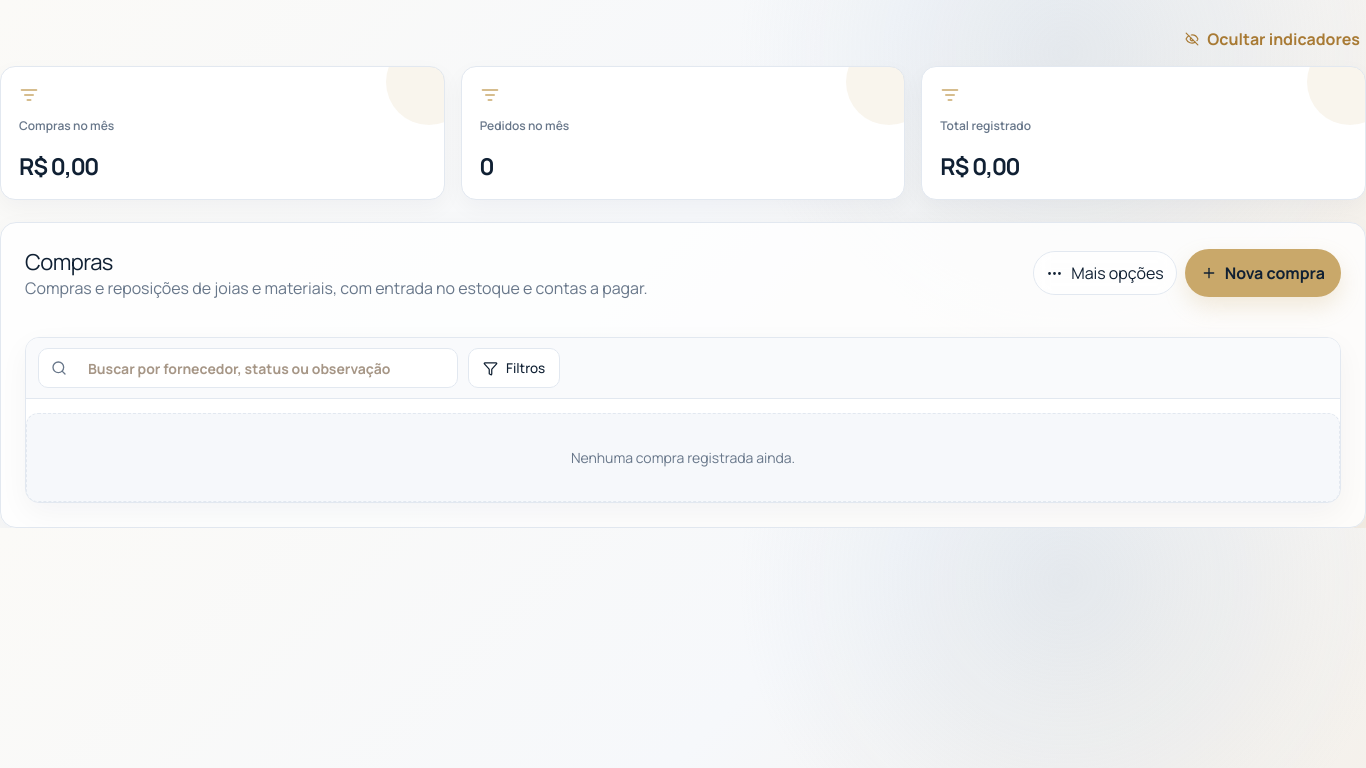
formulário extenso de compras › organiza essenciais, itens e parcelas em etapas sem modal secundário
Click the button "Nova compra" at (1263, 273), box [1185,249,1341,297]
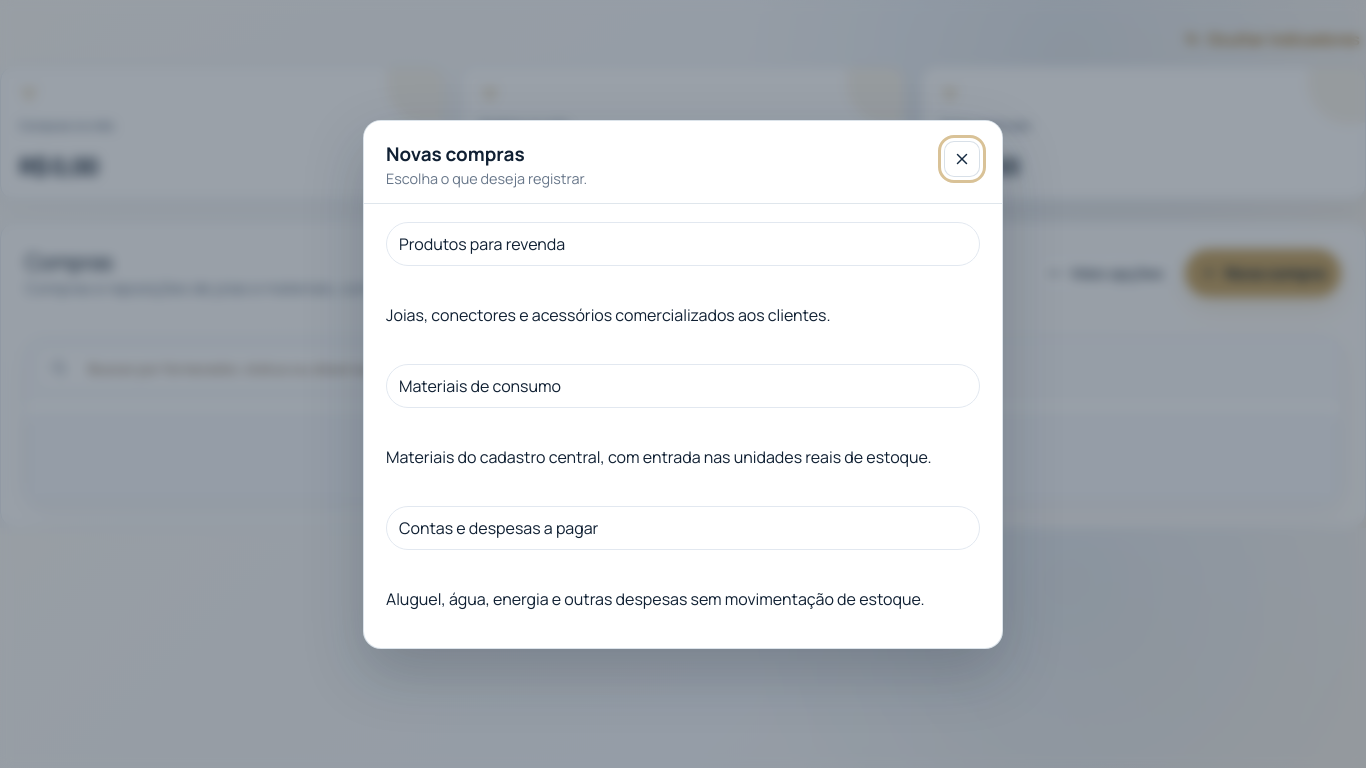
Click the button "Produtos para revenda" at (482, 244), box [386,222,980,266]
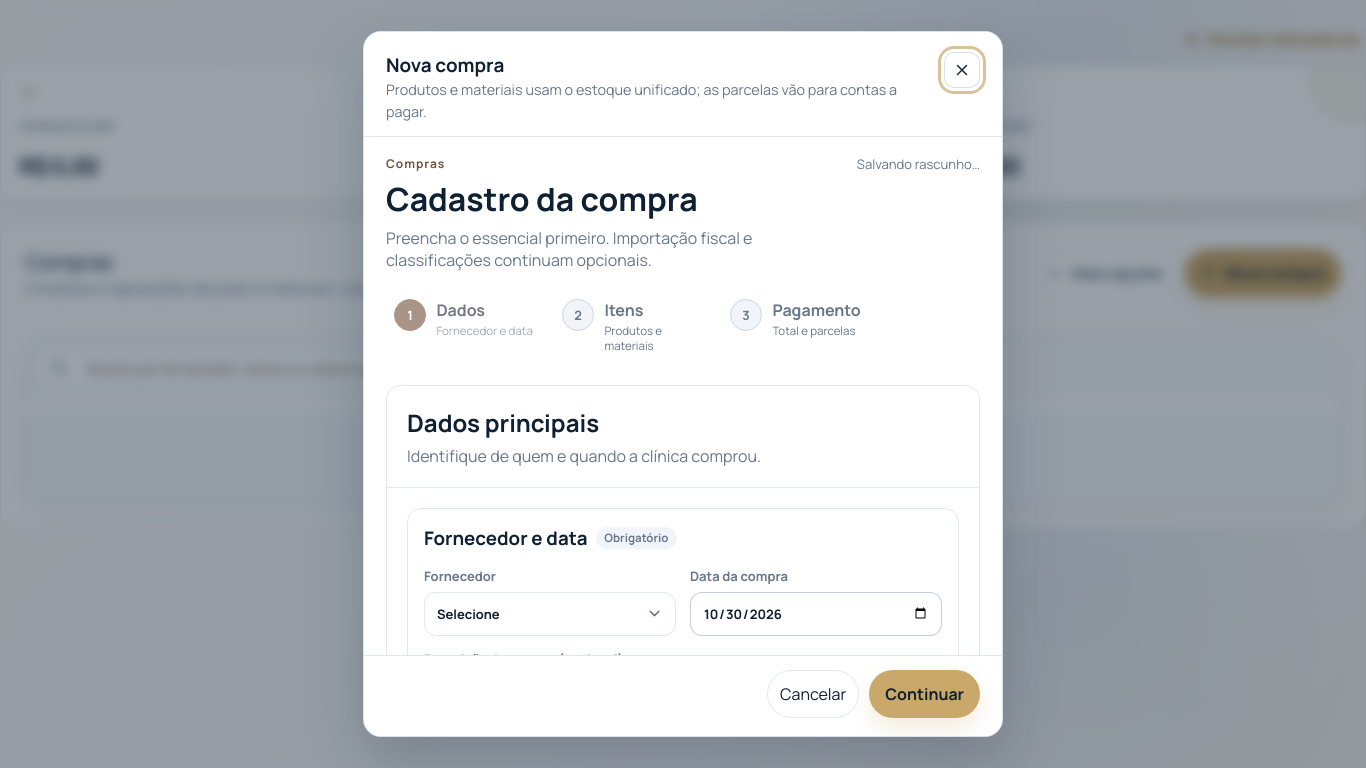
Expected: the field labelled "Tipo de item" is not shown
Now the heading "Fornecedor e data" is shown, box [424,525,588,551]
Click the button with aria-label "2. Itens" at (634, 326), box [554,291,714,361]
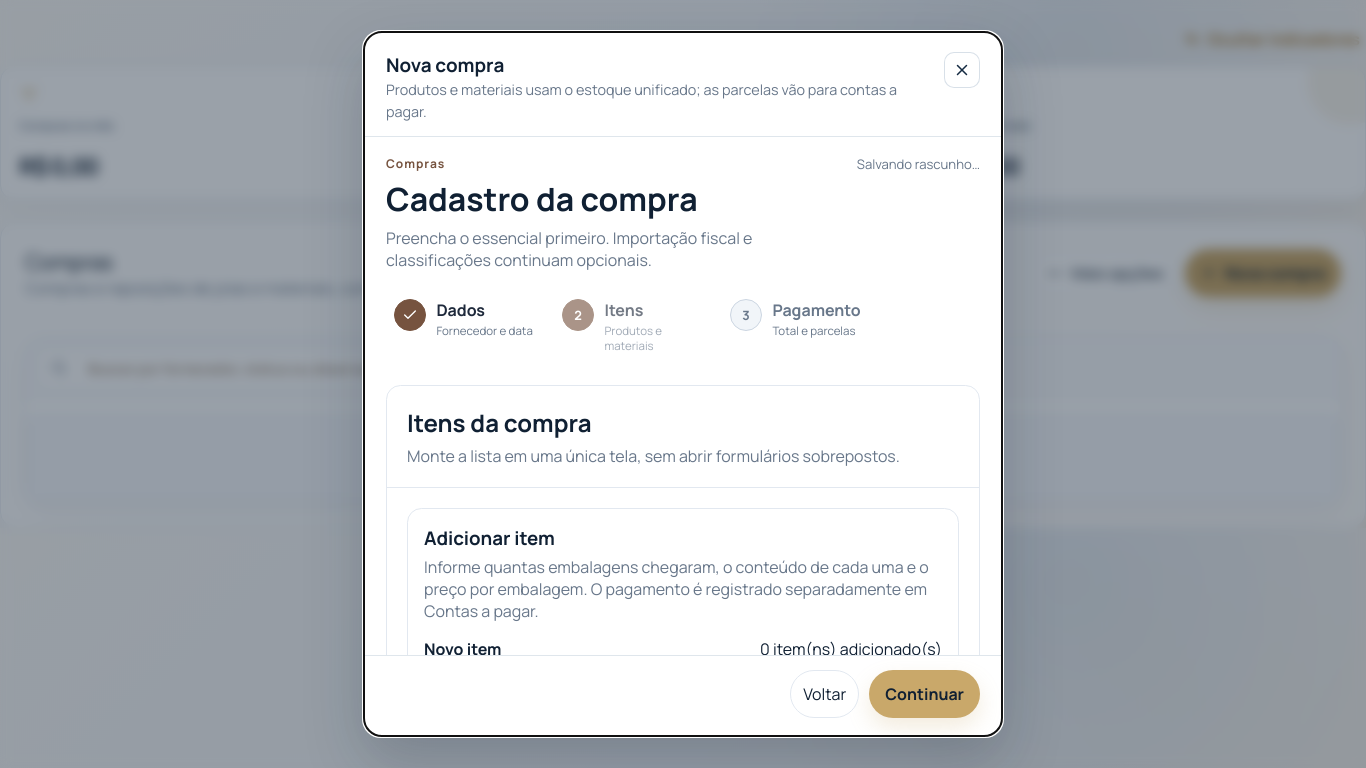
Click the button with aria-label "3. Pagamento" at (802, 319), box [722,291,882,346]
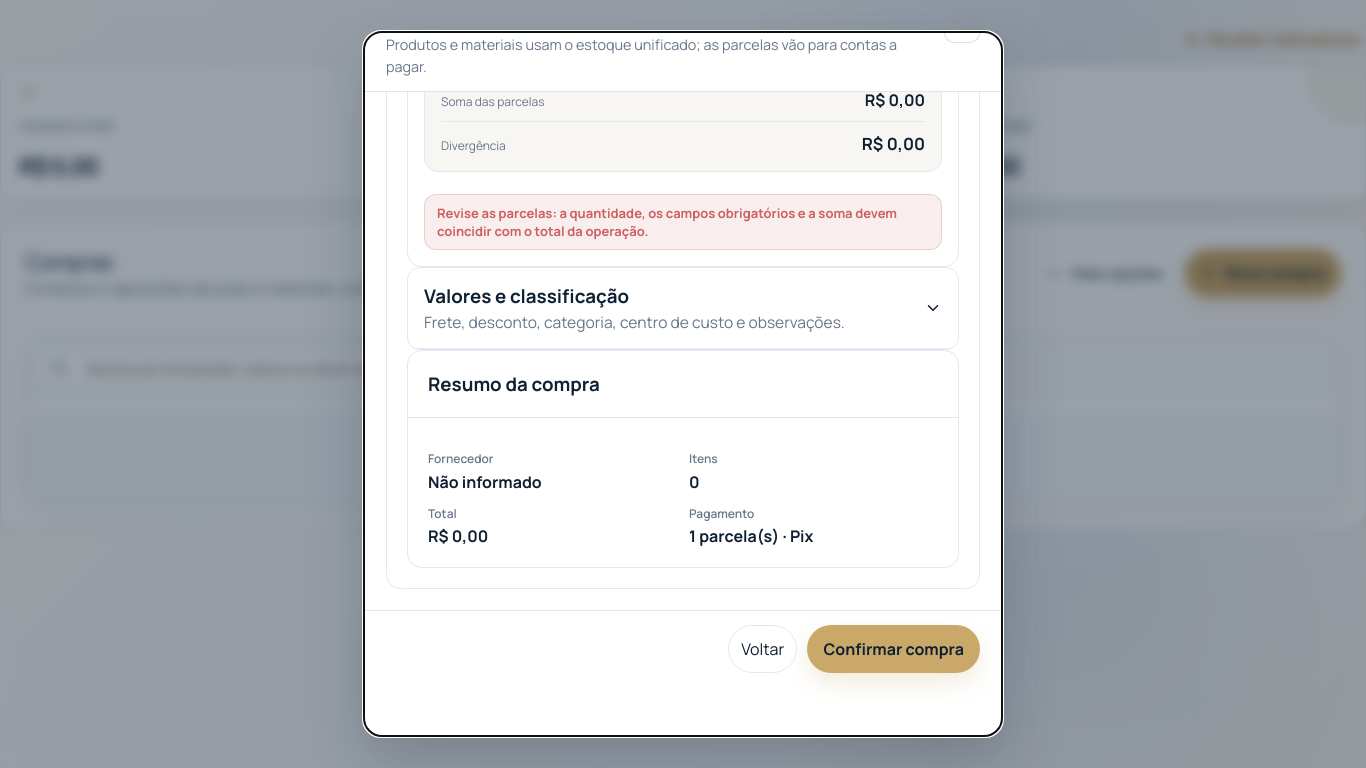
Now the heading "Resumo da compra" is shown, box [428,371,600,397]
